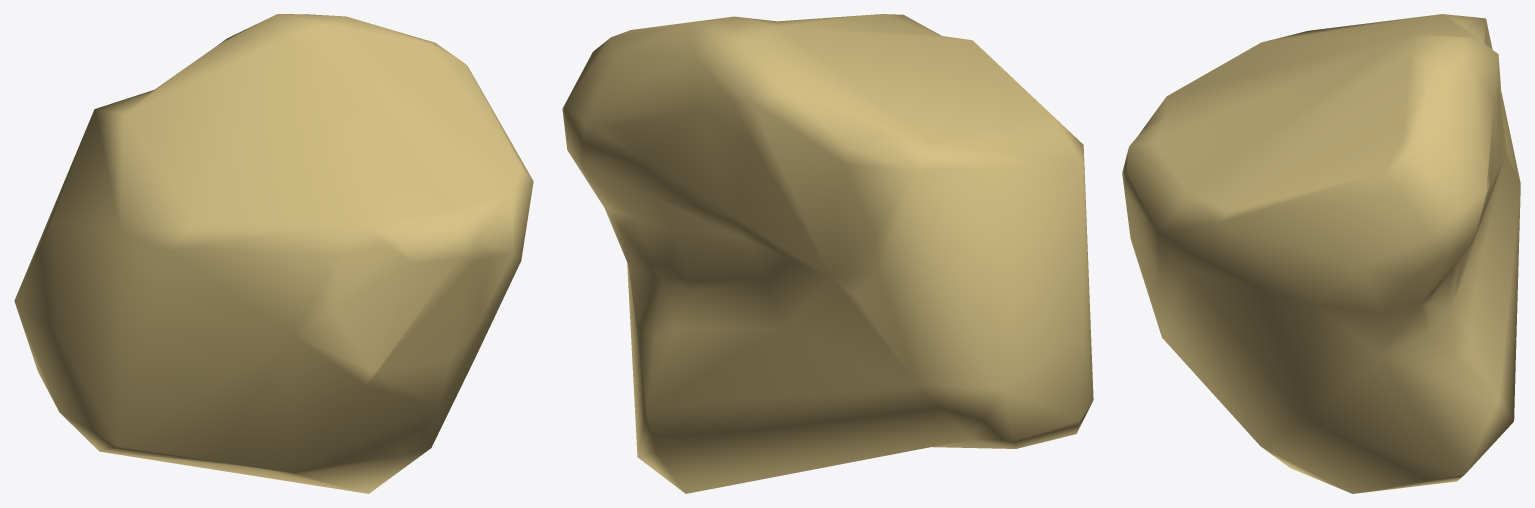
The picture shows the model from 3 angles, left to right: view 1: azimuth 30°, elevation 25°; view 2: azimuth 150°, elevation 25°; view 3: azimuth 270°, elevation 25°; orthographic projection. The views are drawn at different scales.
Visible parts, largest first — view 1: 右侧第五趾中节趾骨; view 2: 右侧第五趾中节趾骨; view 3: 右侧第五趾中节趾骨.
Boxes of the visible parts, x1,y1,x2,y2 form: 右侧第五趾中节趾骨: [14, 14, 533, 493]; 右侧第五趾中节趾骨: [562, 14, 1093, 493]; 右侧第五趾中节趾骨: [1122, 14, 1520, 493].
Size of the model in its own units: 0.0127 by 0.0115 by 0.00973.
